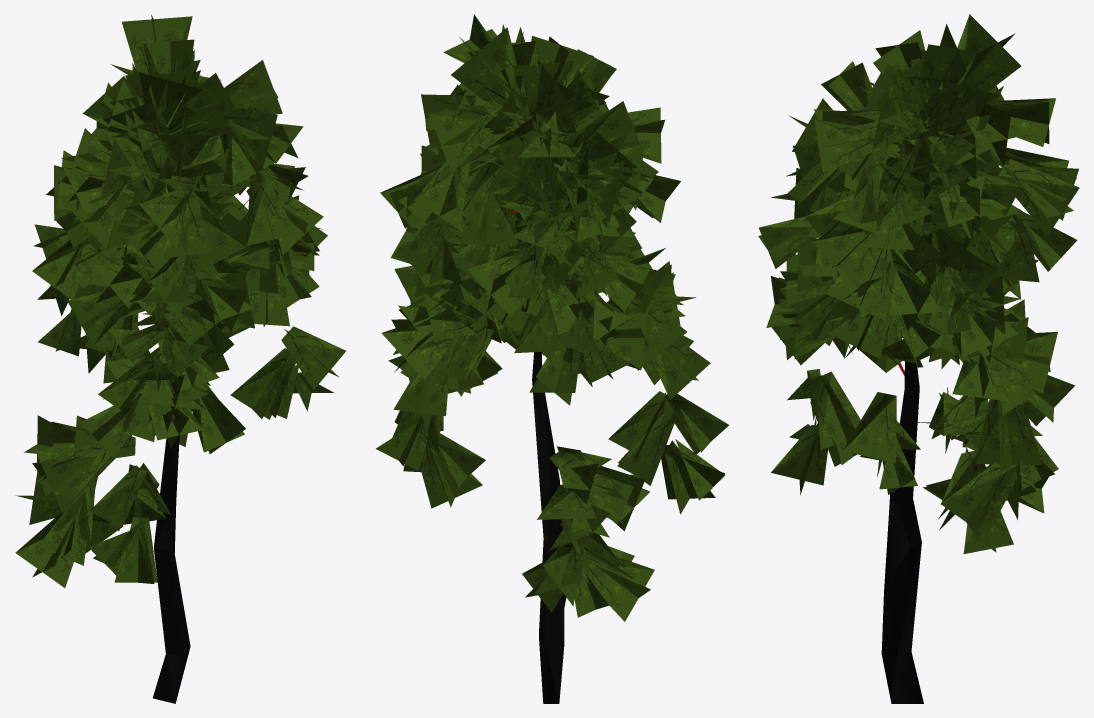
The model's file is birch6 lod1.FBX.
The picture shows the model from 3 angles, left to right: view 1: azimuth 30°, elevation 25°; view 2: azimuth 150°, elevation 25°; view 3: azimuth 270°, elevation 25°; orthographic projection. The views are drawn at different scales.
Parts seen in each view (by area): view 1: birch6_LOD1; view 2: birch6_LOD1; view 3: birch6_LOD1.
Boxes of the visible parts, x1,y1,x2,y2 form: birch6_LOD1: [15, 14, 345, 703]; birch6_LOD1: [376, 14, 728, 703]; birch6_LOD1: [758, 14, 1079, 703].
Bounding box in the file's own units: 57711 × 127053 × 53179.
